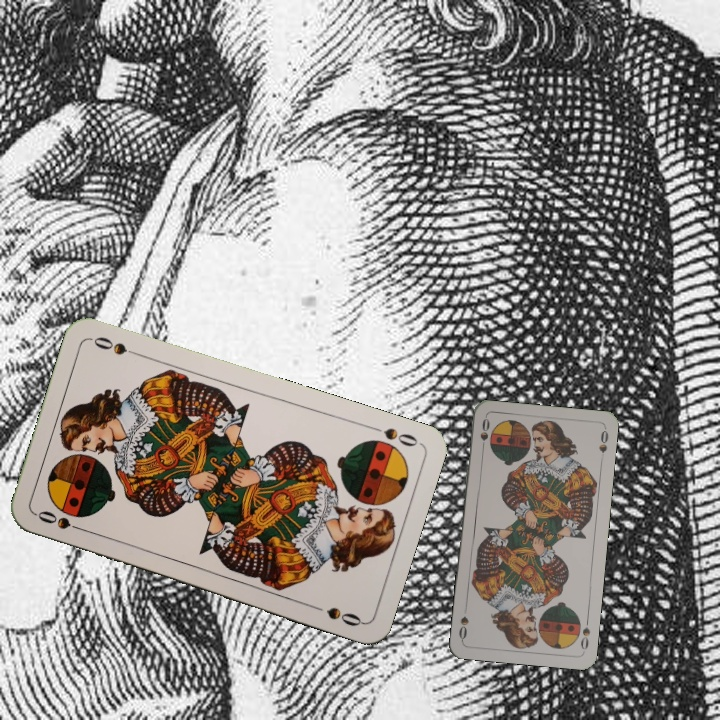SO: (33, 506, 90, 535), (365, 421, 421, 450), (476, 414, 492, 455), (577, 613, 593, 653)
